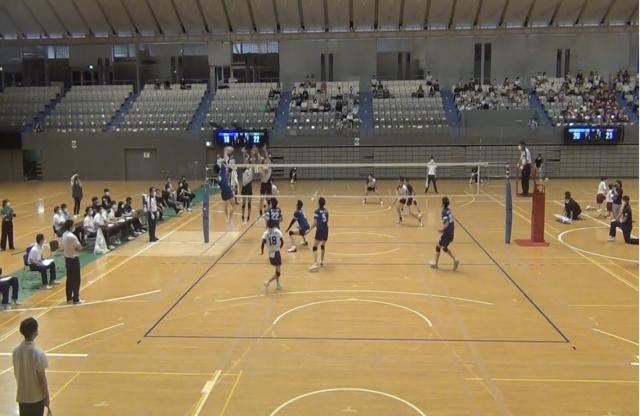spike: (213, 144, 244, 229)
